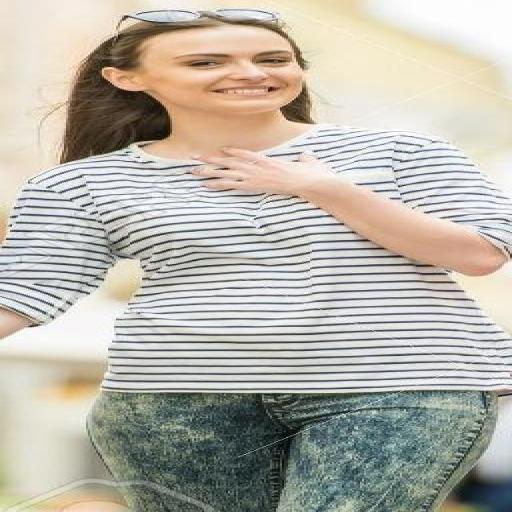person: (0, 9, 511, 511)
